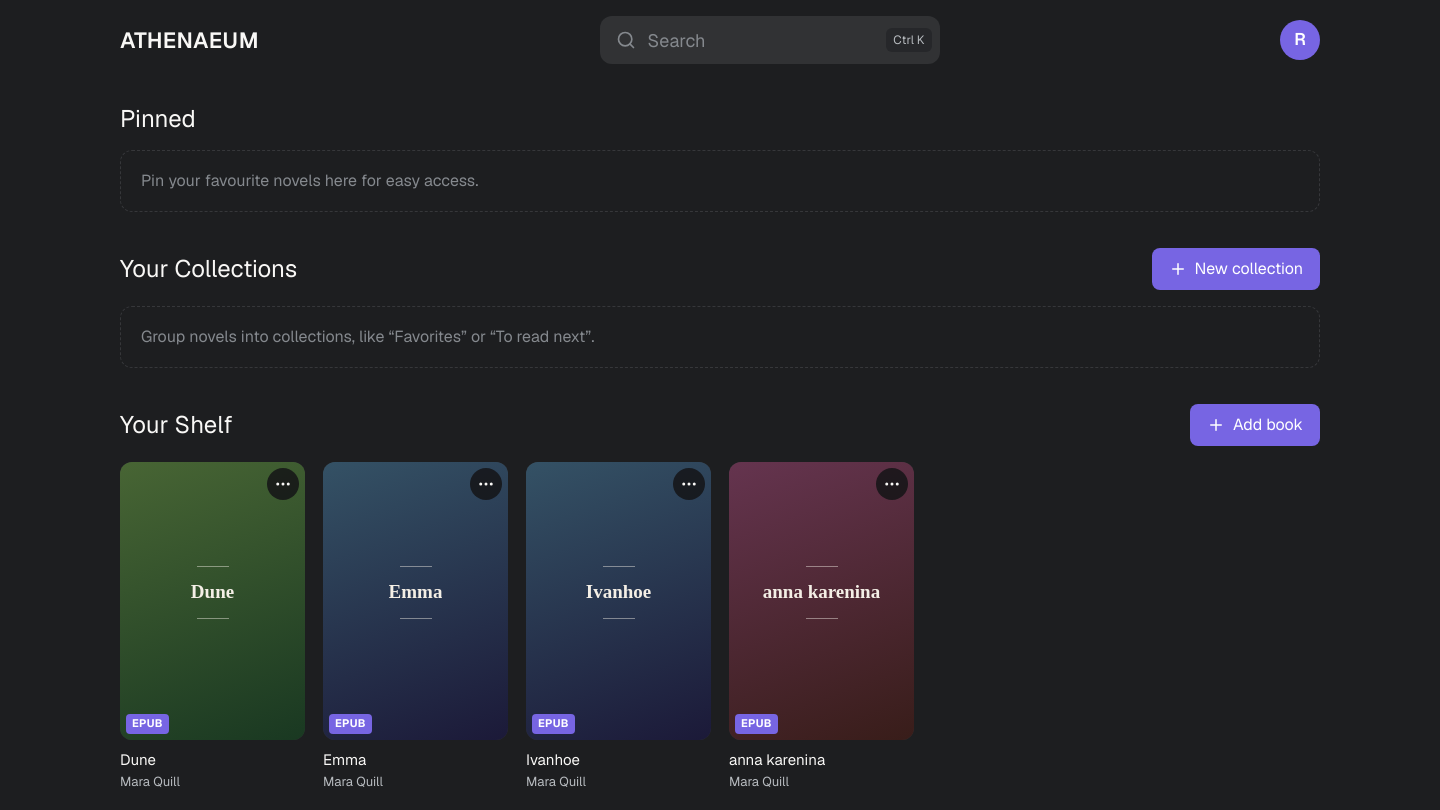
creating a collection › shows the server's reason when the name is taken
Click the button "New collection".
click(1236, 269)  # box 1152,248 -> 1320,290
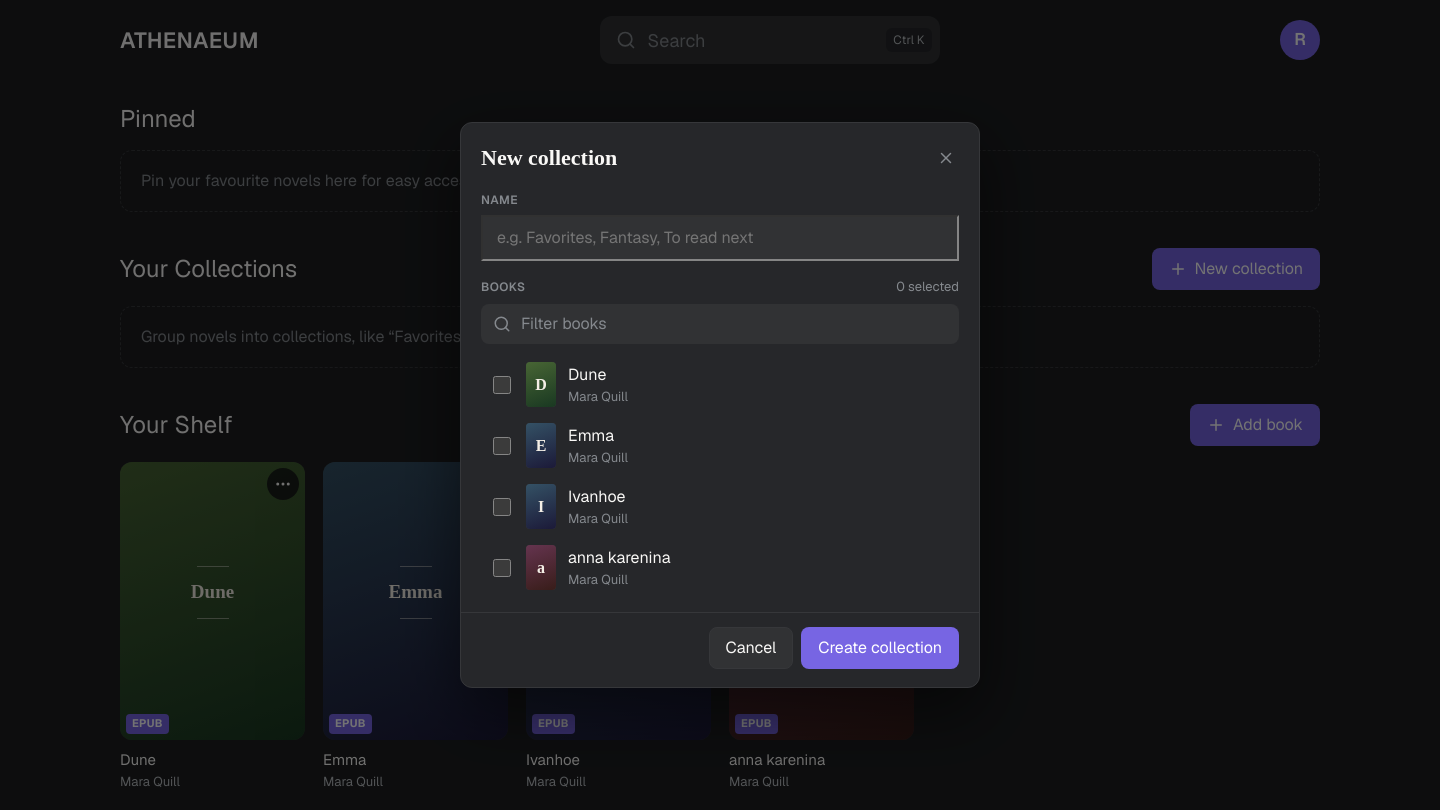
Type "Favorites" into the field labelled "Name".
click(720, 238); type("Favorites")  # box 481,215 -> 959,261
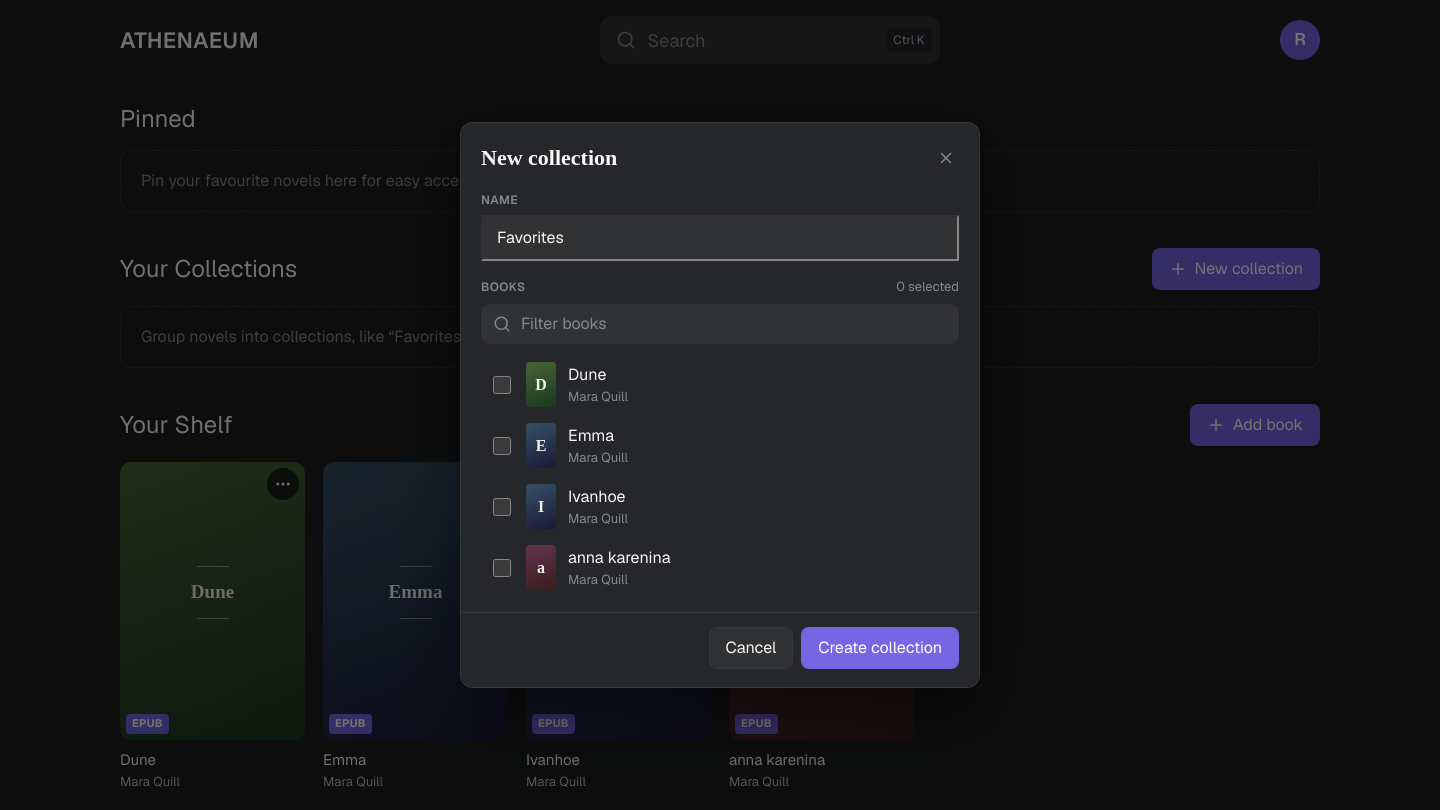
Click the button "Create collection".
click(880, 648)  # box 801,627 -> 959,669
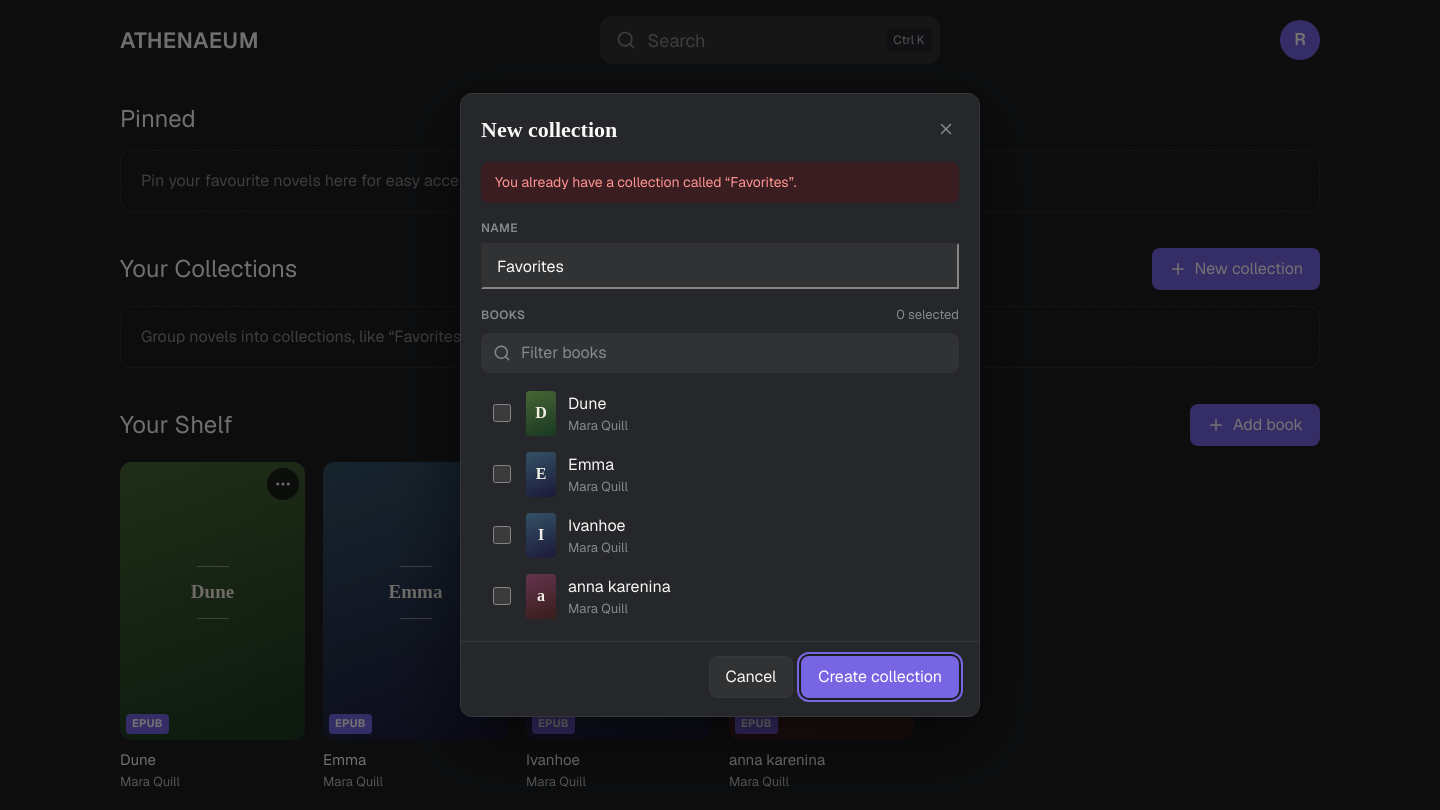
Now the message shows "already have a collection", box 495,173 -> 797,191
